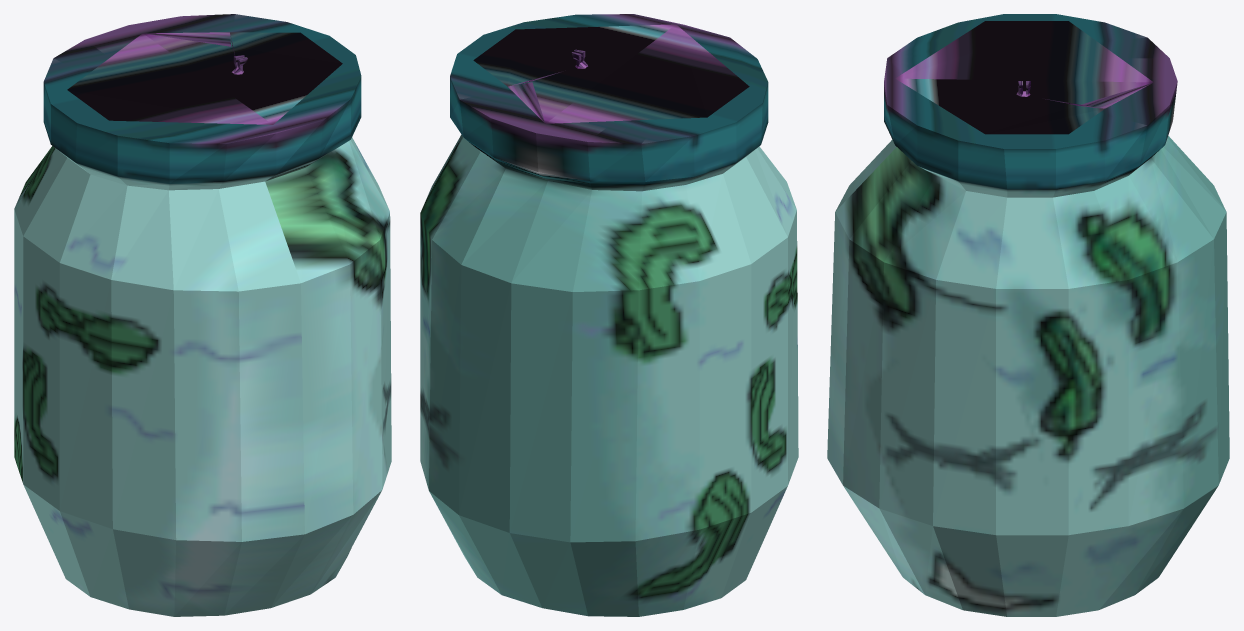
Rendered from Jar.glb.
3 views of the same model, side by side, from view 1: azimuth 30°, elevation 25°; view 2: azimuth 150°, elevation 25°; view 3: azimuth 270°, elevation 25° (orthographic).
Parts seen in each view (by area): view 1: Jar; view 2: Jar; view 3: Jar.
Boxes of the visible parts, box(x1,y1,x2,y2) form: Jar: box(14, 14, 391, 616); Jar: box(420, 14, 798, 616); Jar: box(827, 14, 1229, 616).
Bounding box in the file's own units: 44.16 × 65.42 × 48.65.
1 material, 1 textured.
